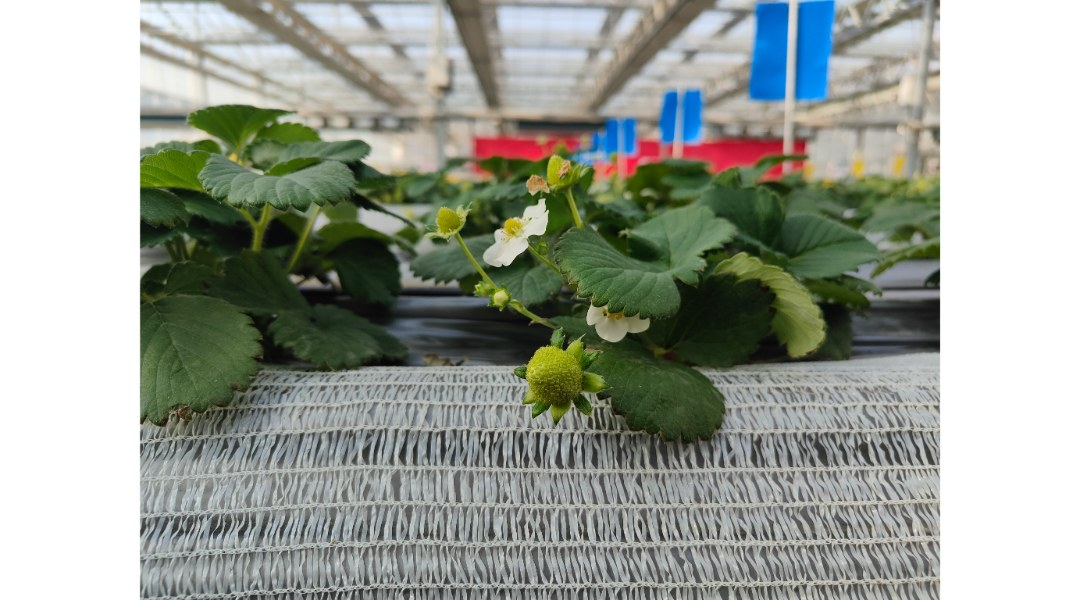berry: (514, 336, 612, 426), (530, 142, 606, 191), (424, 198, 477, 241)
flower: (477, 204, 549, 263)
strain: (489, 285, 568, 327), (452, 229, 504, 291), (564, 196, 586, 235)
